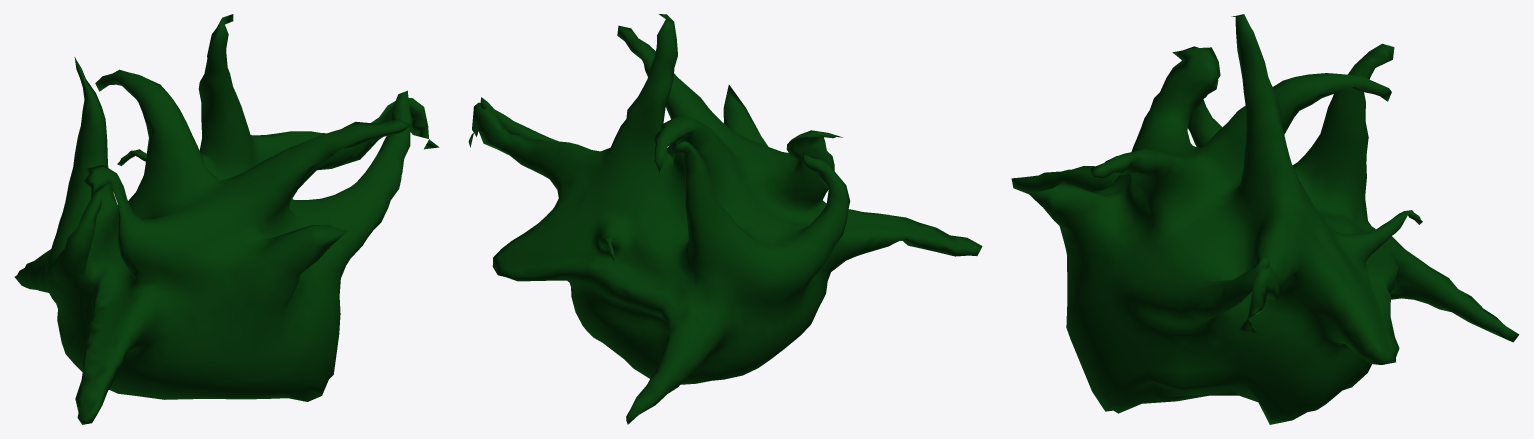
File: jump_cthulhu_0023.obj
3 views of the same model, side by side, from view 1: azimuth 30°, elevation 25°; view 2: azimuth 150°, elevation 25°; view 3: azimuth 270°, elevation 25° (orthographic). The views are drawn at different scales.
Visible parts, largest first — view 1: Cube; view 2: Cube; view 3: Cube.
Boxes of the visible parts, x1,y1,x2,y2 form: Cube: [14, 14, 439, 424]; Cube: [468, 14, 982, 424]; Cube: [1011, 14, 1519, 424].
Bounding box in the file's own units: 1.25 × 0.9274 × 1.08.
